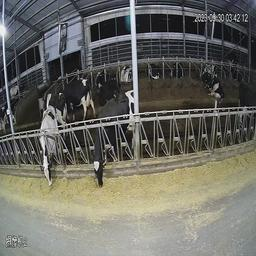cow: (88, 91, 134, 191), (29, 91, 63, 193), (45, 78, 79, 120), (235, 94, 255, 142), (202, 68, 225, 104), (168, 58, 188, 87), (147, 60, 163, 86), (90, 65, 105, 87), (226, 57, 240, 80), (122, 61, 132, 82)
